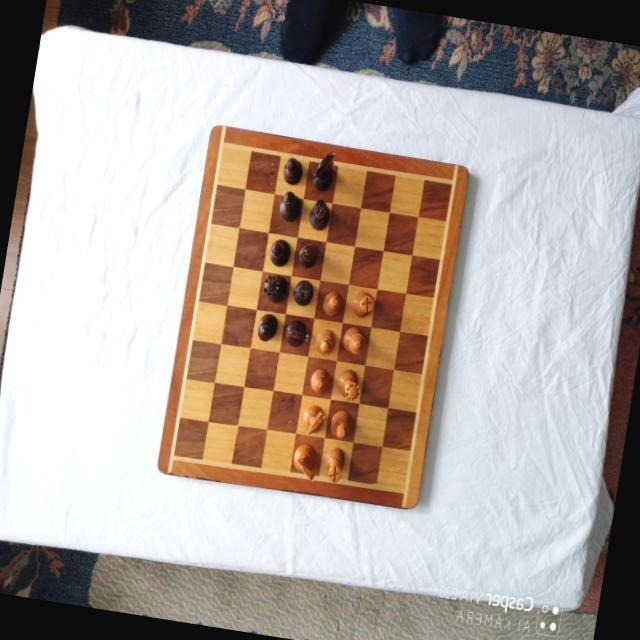black-bishop: (278, 189, 304, 222), (268, 236, 292, 267)
black-king: (256, 312, 280, 343)
black-knight: (310, 146, 338, 193), (283, 319, 311, 349)
black-pawn: (281, 156, 305, 187), (296, 242, 320, 270)
black-queen: (261, 272, 290, 304)
black-rook: (307, 197, 333, 232), (292, 278, 316, 308)
white-bishop: (314, 326, 338, 357), (329, 409, 353, 440)
white-king: (341, 326, 369, 356)
white-knight: (290, 442, 322, 483), (300, 402, 328, 437)
white-pawn: (320, 290, 344, 318), (309, 366, 331, 394)
white-queen: (335, 368, 365, 404)
white-rook: (321, 445, 346, 484), (350, 289, 376, 319)
